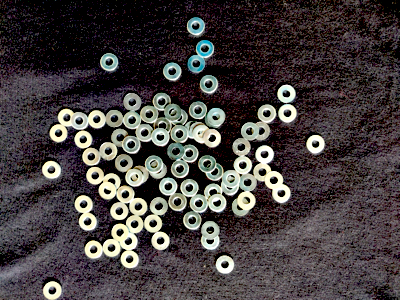circle: (237, 192, 257, 211), (144, 214, 163, 234), (238, 173, 258, 192), (193, 124, 211, 145), (100, 53, 119, 72), (163, 62, 182, 81), (200, 75, 219, 94), (307, 135, 326, 154), (272, 184, 291, 203), (110, 202, 129, 221), (252, 122, 271, 141), (115, 154, 134, 173), (150, 197, 169, 216), (169, 193, 188, 212), (153, 92, 172, 111), (189, 101, 208, 120), (171, 160, 190, 179), (222, 170, 241, 189), (203, 129, 222, 148), (256, 145, 274, 165), (221, 177, 241, 195), (234, 156, 252, 176), (187, 17, 206, 35), (196, 40, 215, 58), (279, 104, 297, 123), (216, 256, 235, 274), (201, 231, 220, 249), (43, 282, 62, 300), (103, 239, 121, 258), (75, 195, 93, 214), (43, 160, 61, 179), (265, 171, 284, 189), (106, 109, 124, 128), (123, 93, 141, 112), (152, 232, 170, 251), (117, 186, 136, 204), (111, 129, 130, 147), (241, 123, 260, 141), (258, 104, 276, 123), (141, 105, 159, 124), (154, 117, 172, 136), (149, 161, 168, 179), (129, 198, 148, 216), (191, 194, 209, 213), (209, 194, 227, 213), (204, 184, 223, 202), (205, 110, 223, 129), (207, 108, 226, 126), (188, 55, 206, 73), (278, 85, 296, 103), (202, 222, 220, 240), (85, 241, 103, 259), (121, 251, 139, 269), (50, 124, 68, 142), (254, 164, 272, 182), (232, 199, 250, 217), (58, 109, 76, 127), (83, 148, 101, 166), (75, 131, 93, 149), (100, 143, 118, 161), (120, 233, 138, 251), (126, 216, 144, 234), (99, 182, 117, 200), (123, 136, 141, 154), (123, 111, 141, 129), (136, 124, 154, 142), (152, 129, 170, 147), (126, 169, 144, 187), (160, 178, 178, 196), (181, 179, 199, 197), (184, 212, 202, 230), (170, 109, 188, 127), (171, 125, 189, 143), (190, 122, 208, 140), (89, 110, 106, 129), (168, 142, 185, 161), (233, 139, 252, 156), (72, 112, 89, 130), (87, 167, 104, 185), (112, 224, 129, 242), (104, 173, 121, 191), (146, 156, 164, 173), (165, 104, 182, 122), (182, 145, 199, 163), (207, 163, 224, 181), (185, 121, 202, 139), (80, 214, 97, 231), (132, 166, 149, 183), (199, 156, 216, 173)
